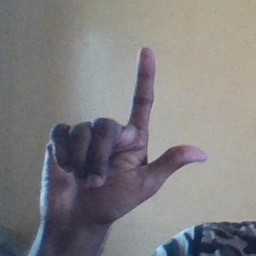L: (38, 46, 207, 220)
